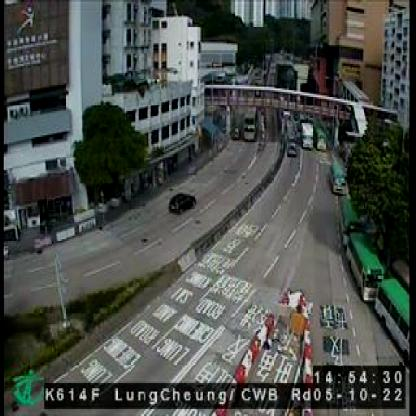Bus: (244, 106, 256, 142)
Car: (169, 192, 194, 212), (288, 140, 296, 156)
Minibus: (374, 276, 410, 364), (345, 232, 382, 300), (339, 194, 364, 245), (329, 163, 346, 192), (313, 126, 325, 152)
Truck: (300, 121, 312, 149)
